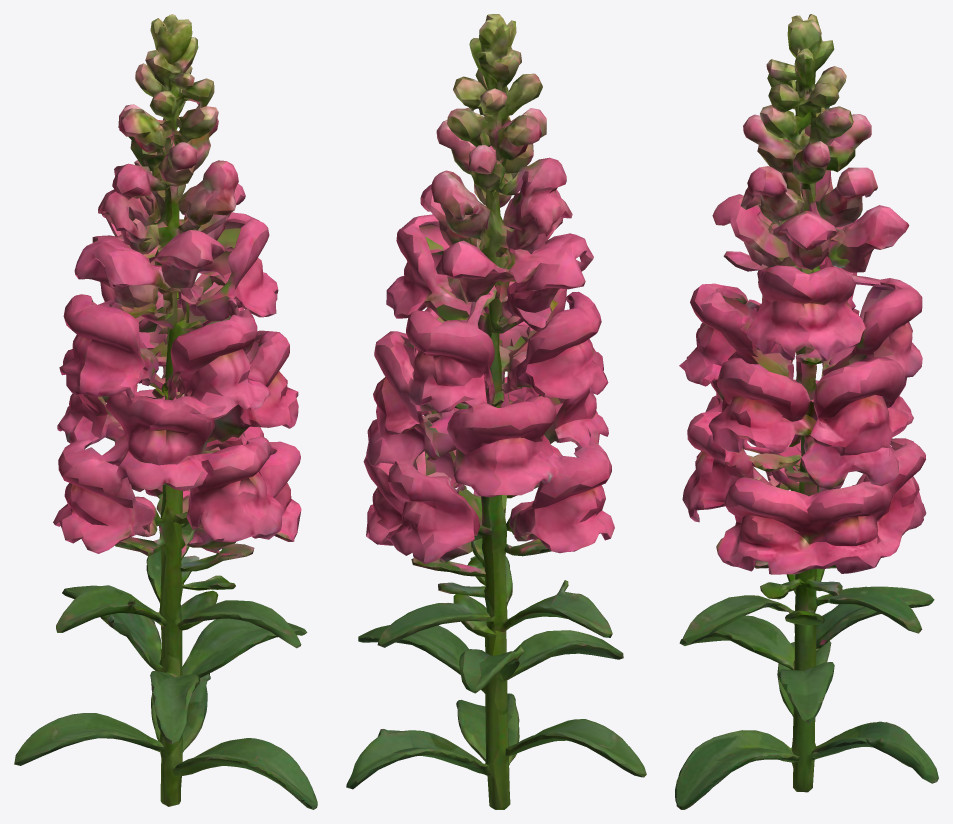
The model's file is lux-snapdragon.glb.
3 views of the same model, side by side, from view 1: azimuth 30°, elevation 25°; view 2: azimuth 150°, elevation 25°; view 3: azimuth 270°, elevation 25° (orthographic). The views are drawn at different scales.
Parts seen in each view (by area): view 1: geometry_0; view 2: geometry_0; view 3: geometry_0.
Boxes of the visible parts, x1,y1,x2,y2 form: geometry_0: [14, 14, 317, 809]; geometry_0: [346, 14, 646, 809]; geometry_0: [675, 14, 938, 809].
Bounding box in the file's own units: 0.2316 × 0.6 × 0.186.
Materials: 1 (1 with a texture image).
